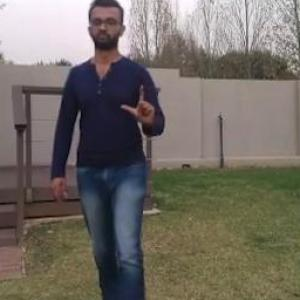land_hand: (118, 80, 160, 130)
